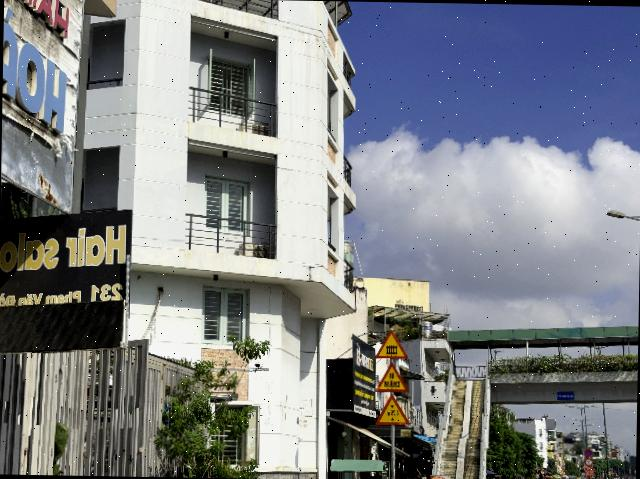chieu-cao-tinh-khong-thuc-te: (376, 394, 410, 426)
di-cham: (375, 361, 410, 392)
noi-giao-nhau-voi-duong-sat-co-rao-chan: (375, 329, 409, 358)
